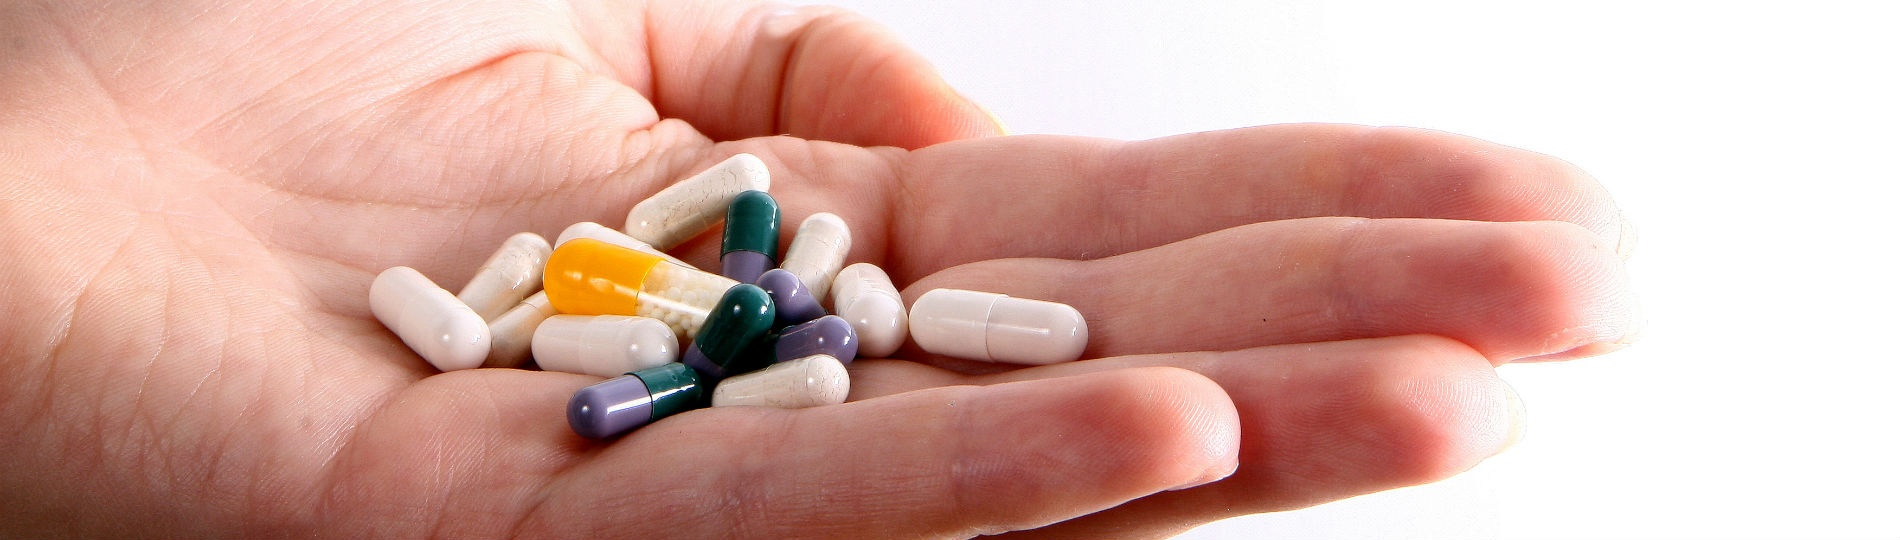pills: (549, 239, 746, 329), (622, 151, 786, 245), (365, 255, 496, 367), (559, 360, 706, 437), (916, 298, 1086, 361), (832, 247, 897, 373)
